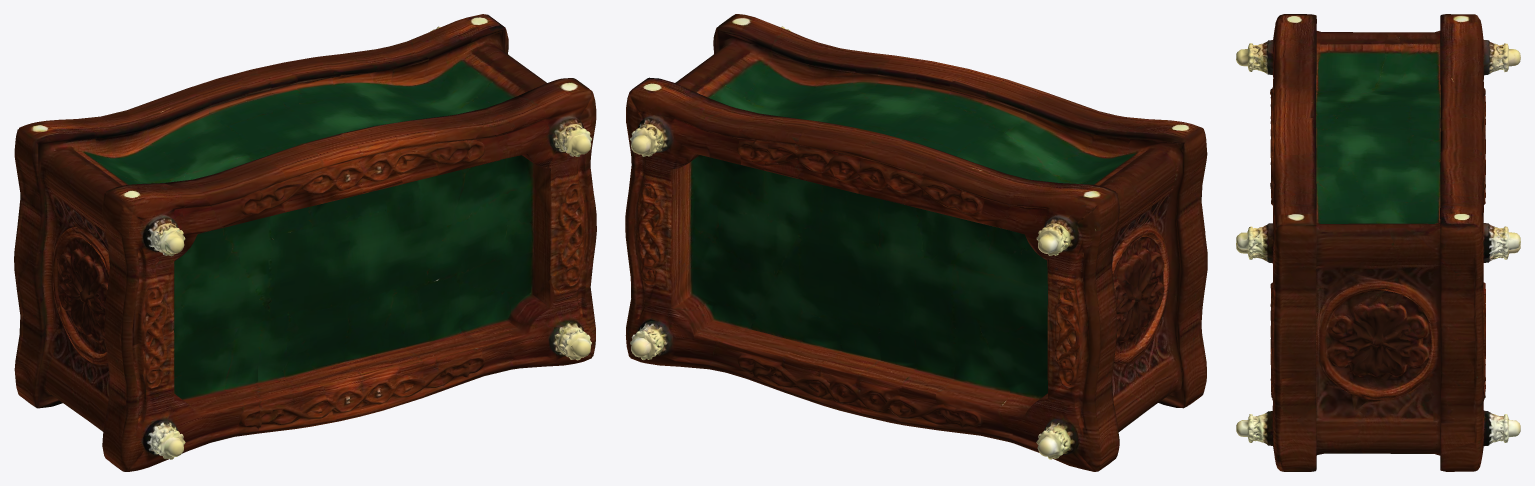
The model's file is tray.glb.
3 renders of one model, left to right at view 1: azimuth 30°, elevation 25°; view 2: azimuth 150°, elevation 25°; view 3: azimuth 270°, elevation 25°, orthographic. The views are drawn at different scales.
Size of the model in its own units: 1.9 by 1.04 by 1.07.
Materials: 1 (1 with a texture image).
